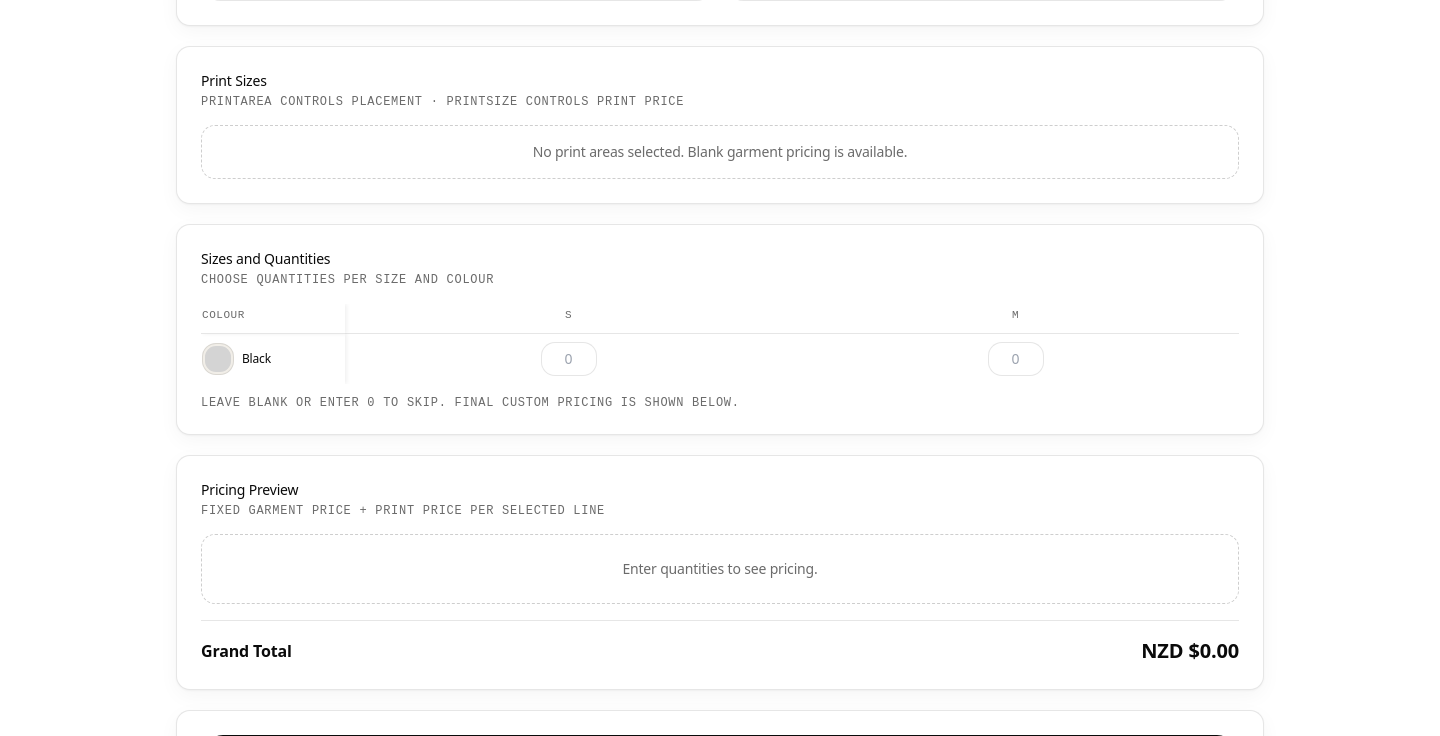
Scenario: batch pricing › reports a total failure as temporary and does not price locally
The image size is (1440, 736).
(page scrolled)
Type "3" into the number field named "Quantity for Black S" at (568, 359), box [540,342,596,376]
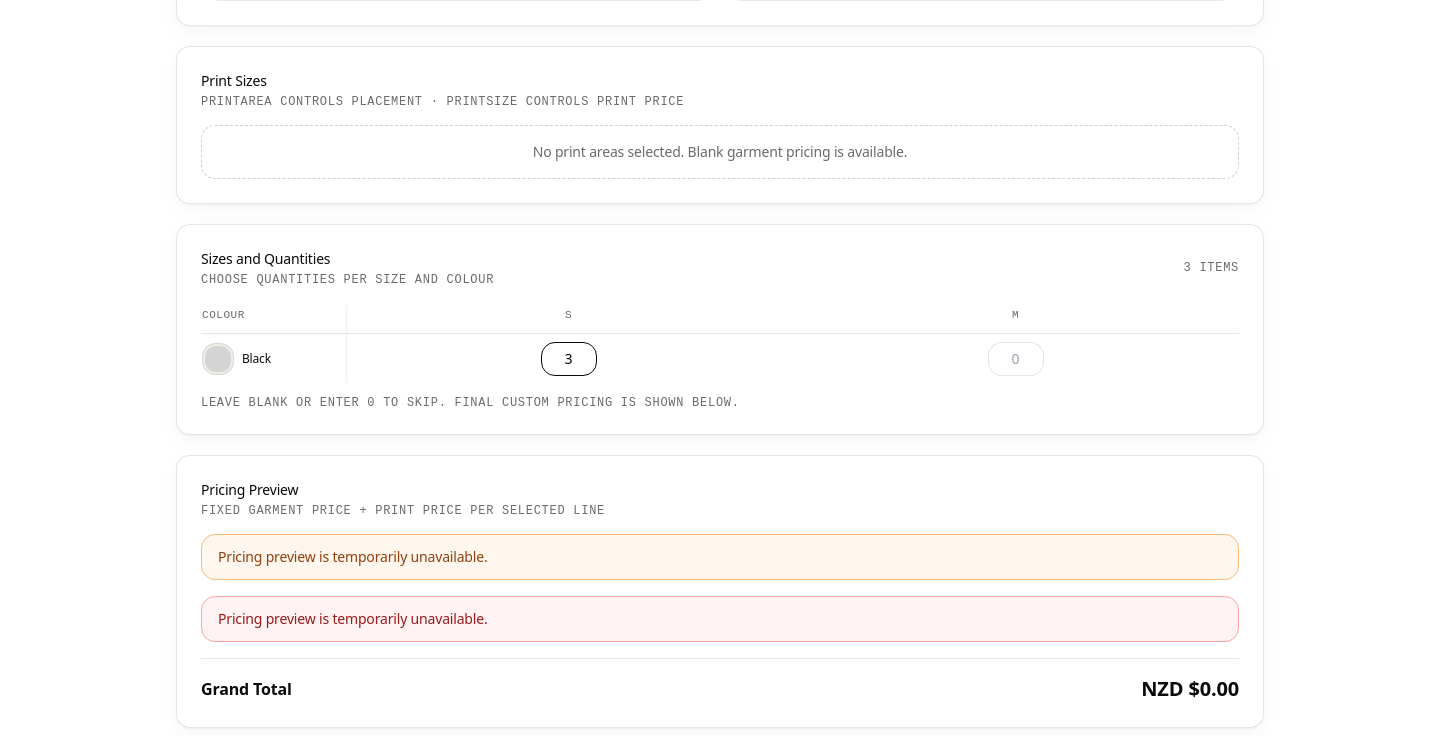
Expected: the 1st text "Pricing preview is temporarily unavailable." is shown, [201,534,1239,580]
